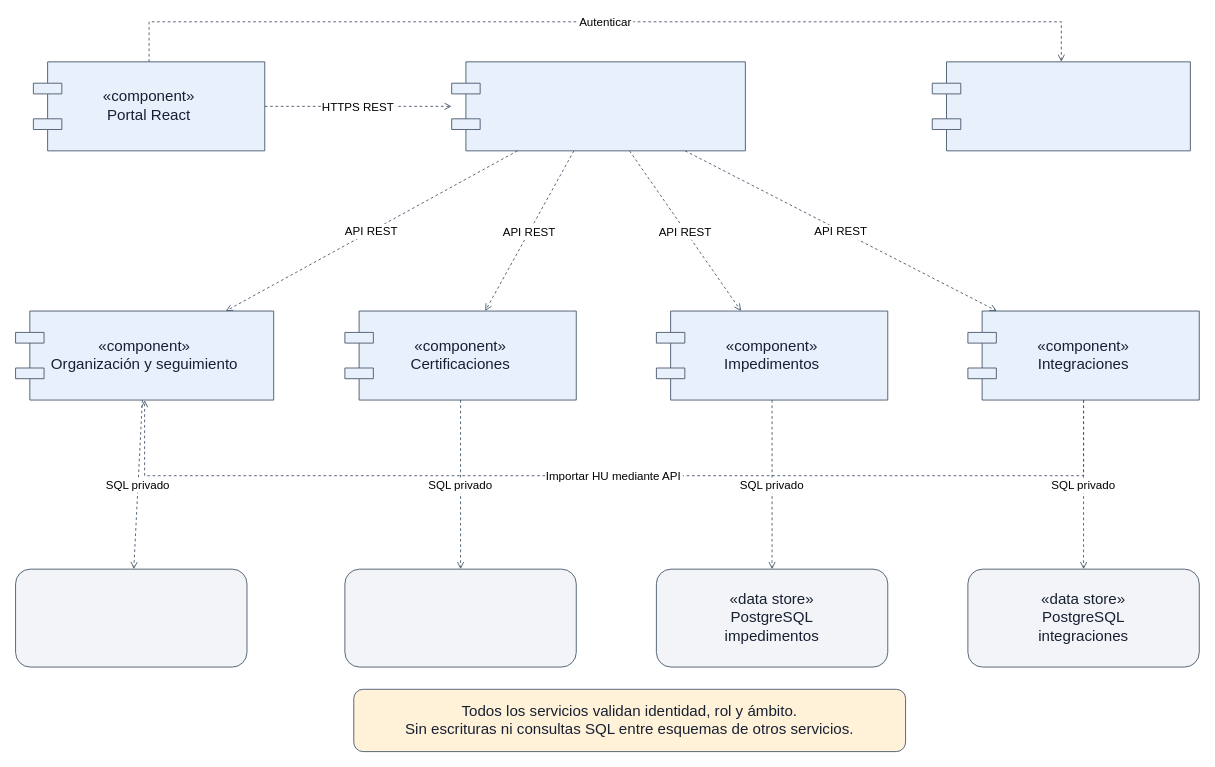
Some shapes in this 1215 by 767 pixel diagram are drawn without their labels. The shapes that lost their labels are listed below. From the top down, each one's centre as x and y in pixels, then its label:
At point 598,106: "«component» Gateway y composición".
At point 1060,106: "«component externo» Proveedor de identidad".
At point 131,617: "«data store» PostgreSQL organizacion".
At point 460,617: "«data store» PostgreSQL certificaciones".
